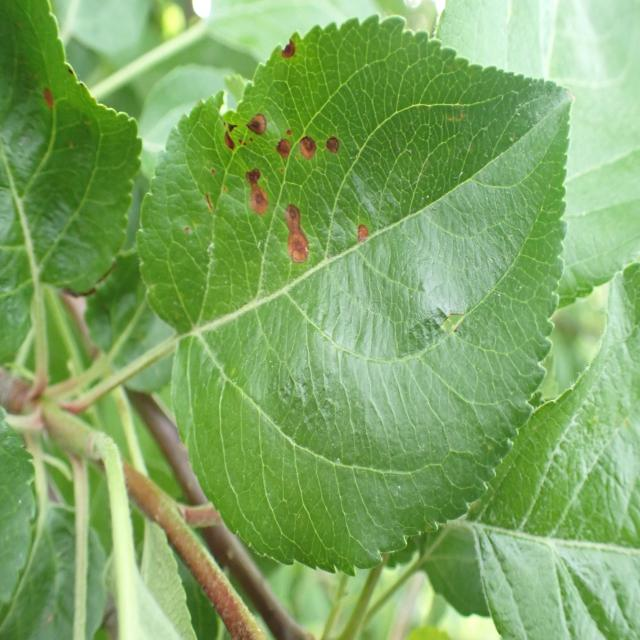Black Rot: (276, 197, 315, 276), (241, 160, 274, 227), (214, 98, 240, 164), (272, 118, 300, 170), (296, 127, 322, 180), (40, 74, 61, 136), (322, 125, 352, 167), (274, 32, 300, 76), (349, 210, 373, 256), (242, 103, 270, 142)
